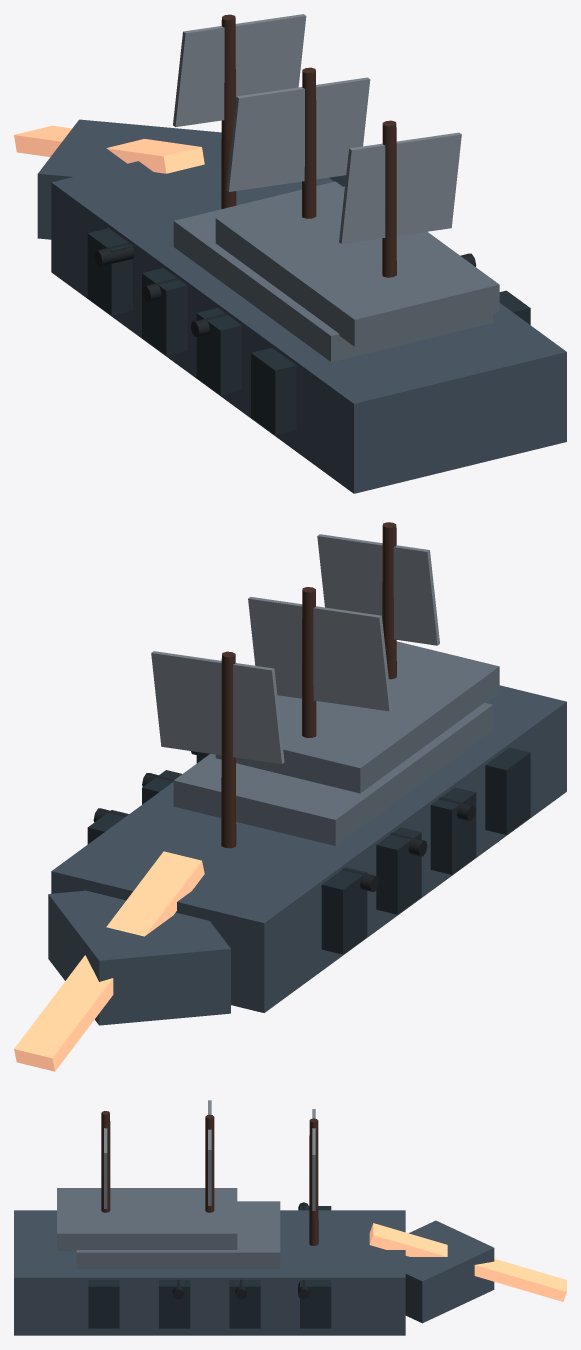
Rendered from ship_main_56.glb.
3 renders of one model, top to bottom at view 1: azimuth 30°, elevation 25°; view 2: azimuth 150°, elevation 25°; view 3: azimuth 270°, elevation 25°, orthographic. The views are drawn at different scales.
Parts seen in each view (by area): view 1: Hull, Deck_1, Sail_1, Sail_2, Sail_0, Deck_0, Bow, ArmorRib_-1_3, ProwIdentity, ArmorRib_-1_2, ArmorRib_-1_1, ArmorRib_-1_0 (+4 smaller); view 2: Hull, Deck_1, Bow, Deck_0, Sail_1, Sail_0, ProwIdentity, Sail_2, ArmorRib_-1_3, ArmorRib_-1_0, ArmorRib_-1_2, ArmorRib_-1_1 (+3 smaller); view 3: Hull, Deck_1, Deck_0, Bow, ProwIdentity, ArmorRib_1_3, ArmorRib_1_0, ArmorRib_1_1, ArmorRib_1_2, Mast_0, Mast_2, Mast_1 (+3 smaller).
Part boxes in pixels (left/top/right/bottom): Hull: left=51, top=141, right=566, bottom=493; Deck_1: left=215, top=186, right=499, bottom=346; Sail_1: left=226, top=77, right=370, bottom=191; Sail_2: left=339, top=132, right=461, bottom=243; Sail_0: left=173, top=14, right=306, bottom=126; Deck_0: left=173, top=181, right=492, bottom=361; Bow: left=37, top=119, right=221, bottom=239; ArmorRib_-1_3: left=251, top=348, right=296, bottom=435; ProwIdentity: left=14, top=125, right=204, bottom=173; ArmorRib_-1_2: left=196, top=308, right=241, bottom=395; ArmorRib_-1_1: left=142, top=268, right=187, bottom=355; ArmorRib_-1_0: left=87, top=228, right=132, bottom=315; Hull: left=51, top=685, right=566, bottom=1012; Deck_1: left=215, top=641, right=499, bottom=793; Bow: left=48, top=890, right=230, bottom=1025; Deck_0: left=173, top=702, right=492, bottom=845; Sail_1: left=248, top=597, right=391, bottom=711; Sail_0: left=151, top=651, right=284, bottom=763; ProwIdentity: left=14, top=851, right=204, bottom=1071; Sail_2: left=317, top=534, right=439, bottom=645; ArmorRib_-1_3: left=485, top=747, right=530, bottom=834; ArmorRib_-1_0: left=321, top=867, right=367, bottom=954; ArmorRib_-1_2: left=430, top=787, right=476, bottom=874; ArmorRib_-1_1: left=376, top=827, right=421, bottom=914; Hull: left=14, top=1210, right=405, bottom=1335; Deck_1: left=57, top=1188, right=237, bottom=1250; Deck_0: left=76, top=1201, right=280, bottom=1269; Bow: left=405, top=1220, right=494, bottom=1323; ProwIdentity: left=369, top=1223, right=566, bottom=1301; ArmorRib_1_3: left=88, top=1280, right=119, bottom=1328; ArmorRib_1_0: left=300, top=1280, right=331, bottom=1328; ArmorRib_1_1: left=229, top=1280, right=260, bottom=1328; ArmorRib_1_2: left=159, top=1280, right=190, bottom=1328; Mast_0: left=309, top=1118, right=318, bottom=1245; Mast_2: left=101, top=1111, right=110, bottom=1212; Mast_1: left=205, top=1114, right=214, bottom=1212.
Bounding box in the file's own units: 3.17 × 3.21 × 8.49.
